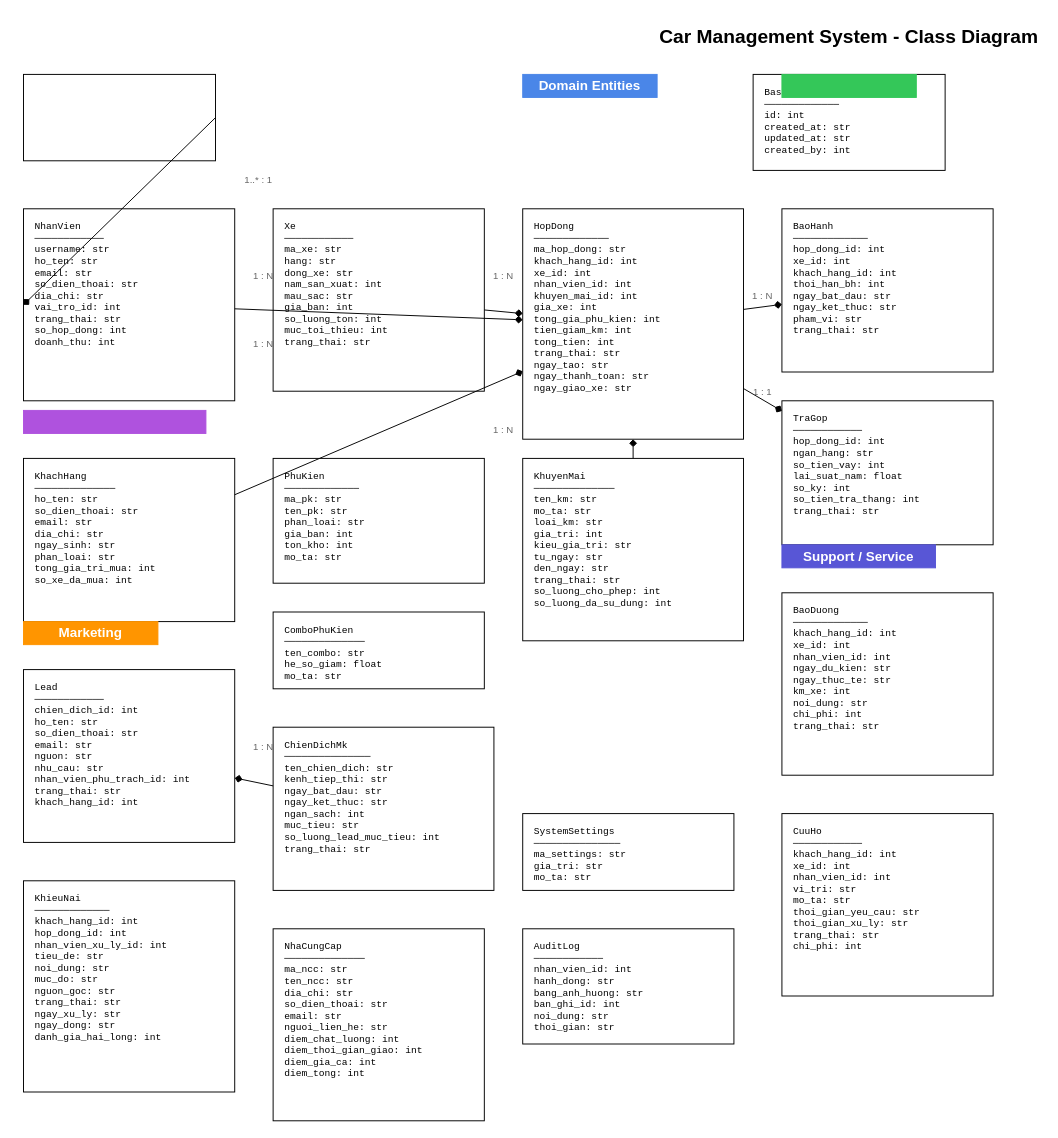
This 1058x1138 diagram has some shape labels left out. Each missing label, with the centre of its shape:
Inventory / Warehouse: the point at 114,421
Sales / Contract: the point at 848,85
VaiTro ────────── ma_vai_tro: str ten_vai_tro: str mo_ta: str: the point at 119,117
